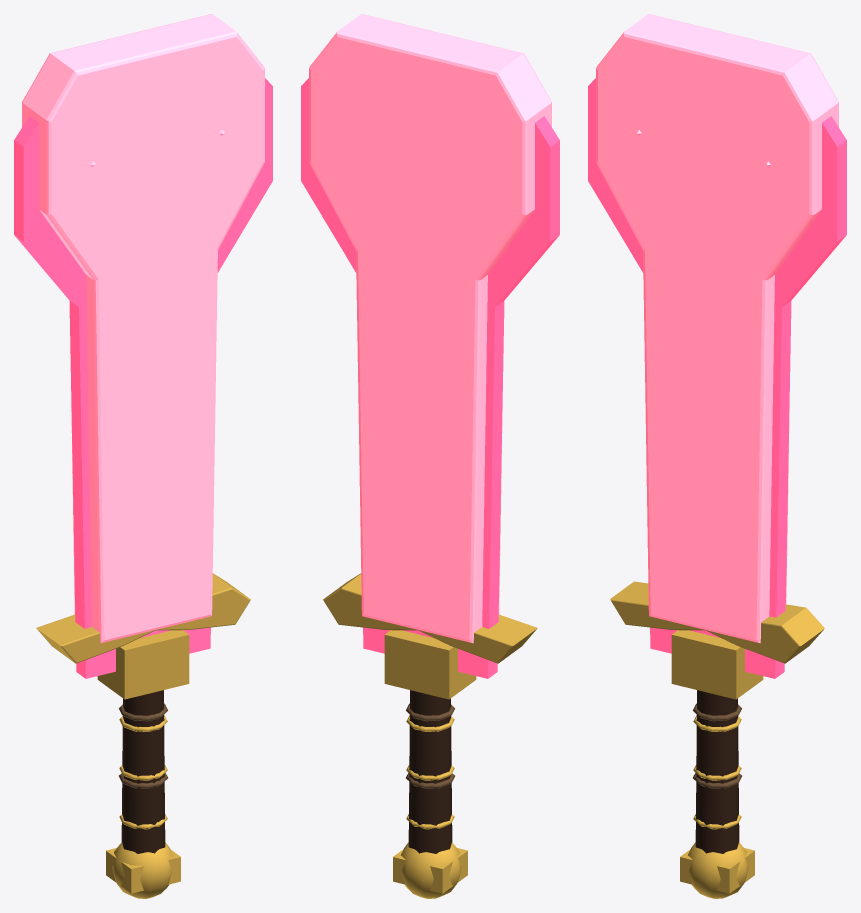
The model's file is greatsword_f1_9318a345.glb.
3 views of the same model, side by side, from view 1: azimuth 30°, elevation 25°; view 2: azimuth 150°, elevation 25°; view 3: azimuth 330°, elevation 25° (orthographic).
Parts seen in each view (by area): view 1: m3_ow80_, m0_gm130_, m4_ow80_, m2_ow80_, m5_ow80_; view 2: m3_ow80_, m0_gm130_, m4_ow80_, m2_ow80_, m5_ow80_; view 3: m3_ow80_, m0_gm130_, m4_ow80_, m2_ow80_, m5_ow80_.
Boxes of the visible parts, left/top/right/bottom form: m3_ow80_: left=22, top=14, right=264, bottom=643; m0_gm130_: left=14, top=78, right=272, bottom=678; m4_ow80_: left=36, top=573, right=250, bottom=898; m2_ow80_: left=121, top=690, right=165, bottom=853; m5_ow80_: left=119, top=703, right=167, bottom=788; m3_ow80_: left=309, top=14, right=551, bottom=643; m0_gm130_: left=301, top=78, right=559, bottom=678; m4_ow80_: left=323, top=573, right=537, bottom=898; m2_ow80_: left=408, top=690, right=452, bottom=853; m5_ow80_: left=406, top=703, right=454, bottom=788; m3_ow80_: left=596, top=14, right=838, bottom=643; m0_gm130_: left=588, top=78, right=846, bottom=678; m4_ow80_: left=610, top=581, right=824, bottom=898; m2_ow80_: left=695, top=690, right=739, bottom=853; m5_ow80_: left=693, top=703, right=741, bottom=788.
Bounding box in the file's own units: 0.8496 × 2.78 × 0.1856.
